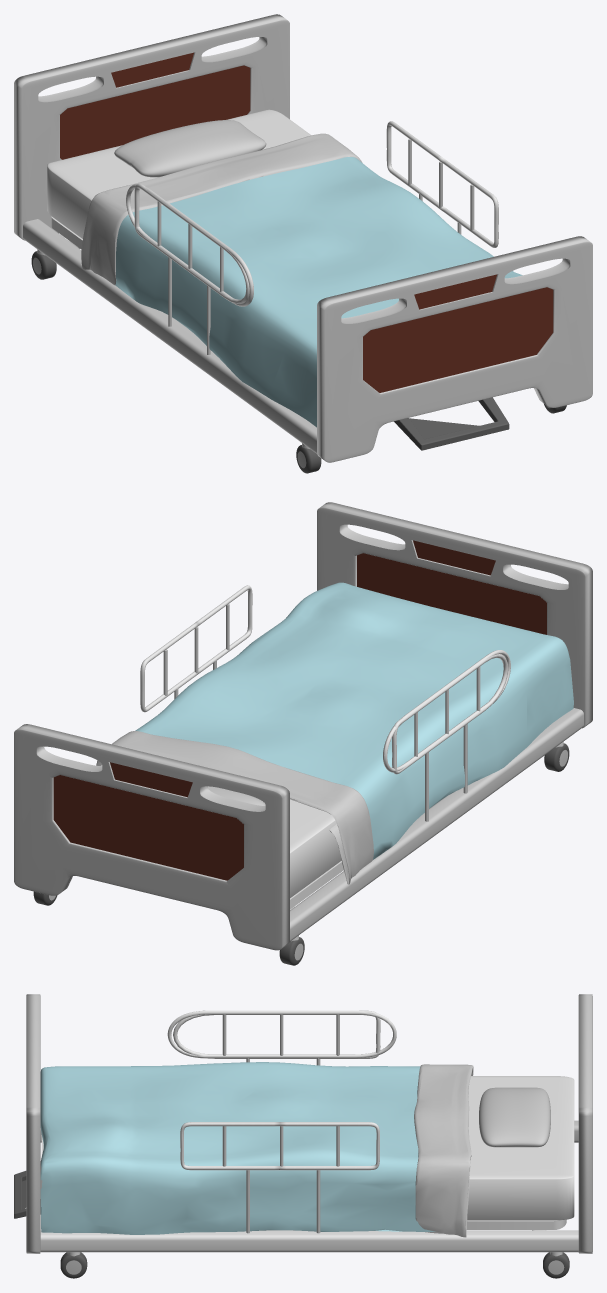
File: Bed.fbx
3 renders of one model, top to bottom at view 1: azimuth 30°, elevation 25°; view 2: azimuth 150°, elevation 25°; view 3: azimuth 270°, elevation 25°, orthographic. The views are drawn at different scales.
Parts seen in each view (by area): view 1: 平面, 立方体, 立方体.001, 立方体.002, 立方体.012, 立方体.013, 立方体.006, Fram3, Fram1, Fram2; view 2: 平面, 立方体.001, 立方体, 立方体.002, 立方体.012, Fram3, Fram2, Fram1, 立方体.008; view 3: 平面, 立方体.003, 立方体.012, 立方体.013, 立方体, 立方体.001, Fram1, Fram3, 立方体.008, Fram2, 立方体.006, 円柱.005 (+1 smaller).
Boxes of the visible parts, box(x1,y1,x2,y2) form: 平面: box(81, 133, 522, 427); 立方体: box(317, 236, 592, 462); 立方体.001: box(14, 14, 289, 240); 立方体.002: box(23, 219, 316, 453); 立方体.012: box(47, 109, 311, 238); 立方体.013: box(114, 120, 266, 177); 立方体.006: box(394, 397, 509, 450); Fram3: box(386, 121, 498, 247); Fram1: box(126, 184, 253, 306); Fram2: box(134, 183, 249, 303); 平面: box(96, 582, 573, 884); 立方体.001: box(14, 724, 289, 950); 立方体: box(317, 502, 592, 728); 立方体.002: box(290, 708, 583, 941); 立方体.012: box(101, 765, 341, 897); Fram3: box(140, 585, 252, 712); Fram2: box(392, 654, 508, 774); Fram1: box(383, 650, 510, 772); 立方体.008: box(290, 861, 343, 909); 平面: box(40, 1062, 473, 1237); 立方体.003: box(40, 1230, 578, 1252); 立方体.012: box(467, 1076, 574, 1220); 立方体.013: box(479, 1087, 550, 1147); 立方体: box(26, 994, 40, 1253); 立方体.001: box(578, 994, 592, 1253); Fram1: box(167, 1010, 396, 1058); Fram3: box(180, 1122, 379, 1170); 立方体.008: box(466, 1219, 566, 1229); Fram2: box(173, 1010, 380, 1058); 立方体.006: box(14, 1171, 26, 1218); 円柱.005: box(60, 1252, 87, 1278).
Size of the model in its own units: 5.23 by 3.49 by 10.73.
